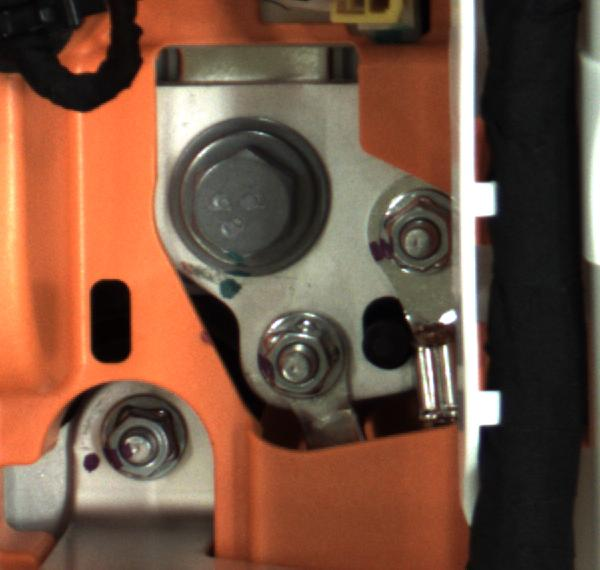nut_b: (159, 125, 333, 279)
screw_s: (92, 394, 212, 484), (245, 302, 350, 404), (378, 199, 479, 280)
